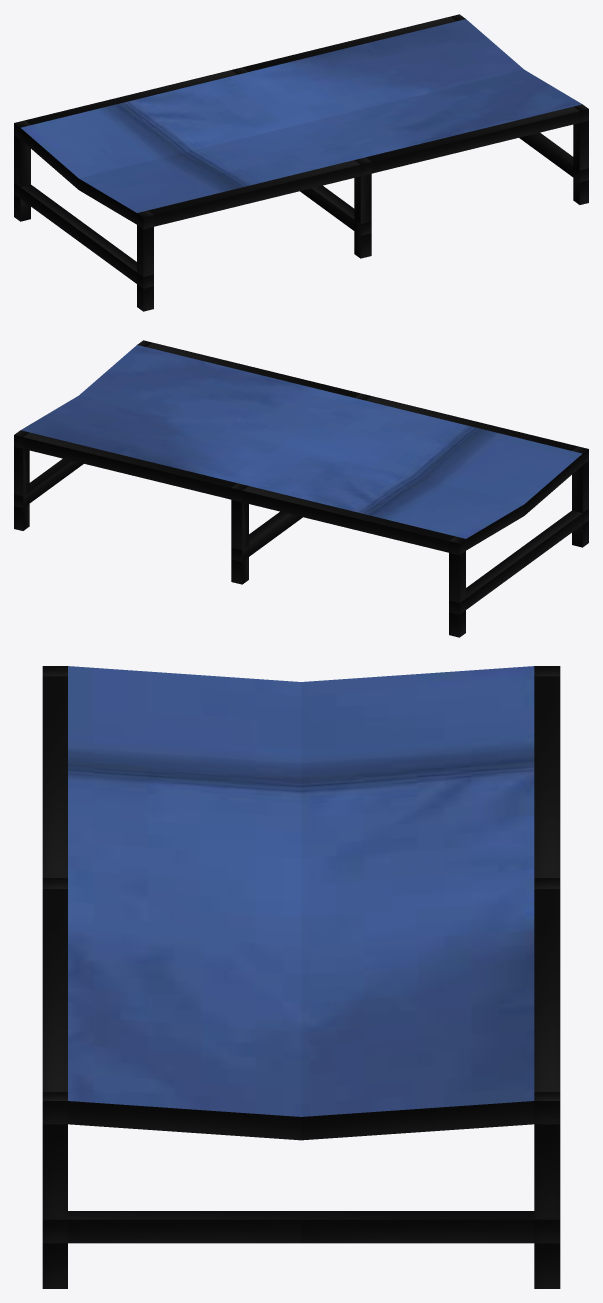
Rendered from Bed.fbx.
The picture shows the model from 3 angles, top to bottom: view 1: azimuth 30°, elevation 25°; view 2: azimuth 150°, elevation 25°; view 3: azimuth 270°, elevation 25°; orthographic projection. The views are drawn at different scales.
Parts seen in each view (by area): view 1: Bed; view 2: Bed; view 3: Bed.
Part boxes in pixels (x1,y1,x2,y2): Bed: (14, 14, 588, 311); Bed: (14, 340, 588, 637); Bed: (42, 666, 560, 1288).
Size of the model in its own units: 398 by 80.16 by 200.
Materials: 1 (1 with a texture image).
